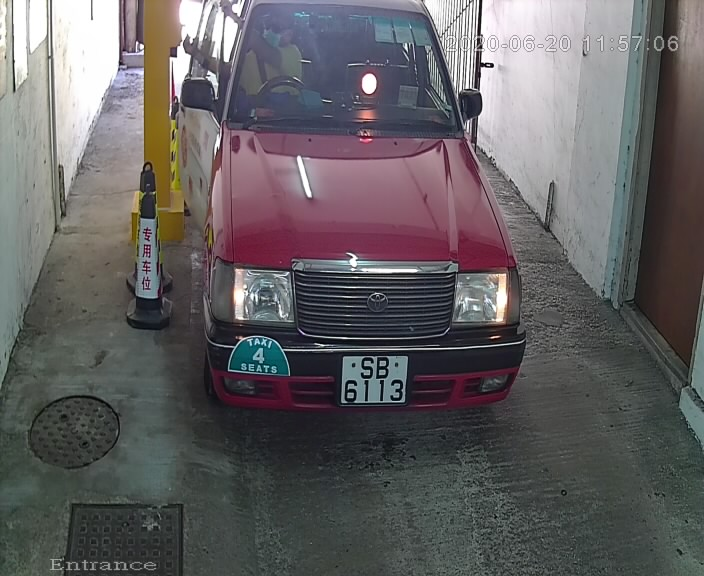taxi: (186, 2, 526, 436)
taxi_mark: (220, 329, 298, 391)
